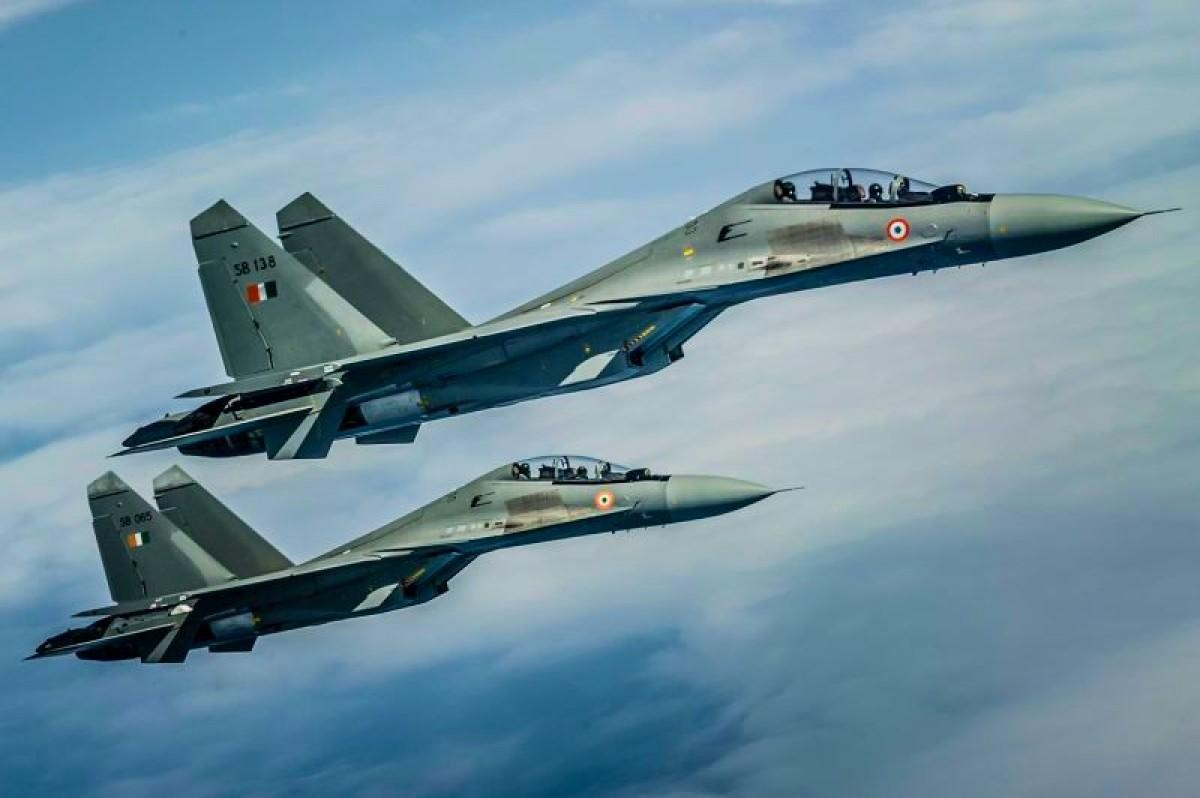aircraft: (10, 157, 1176, 680)
